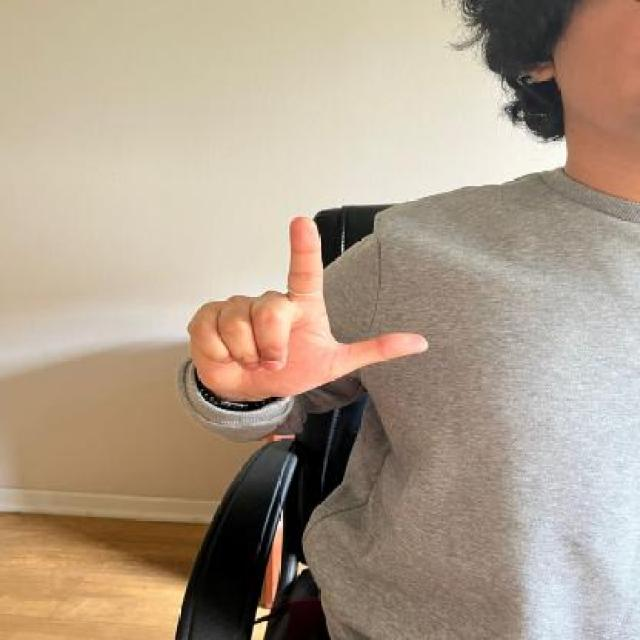L: (183, 211, 434, 406)
